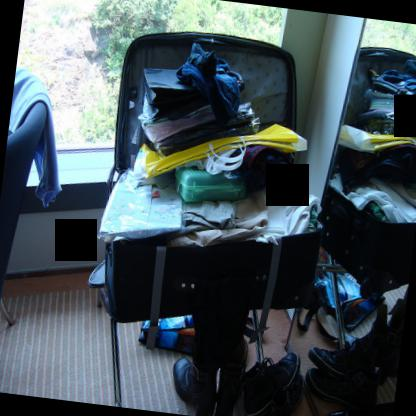handbag: (179, 201, 238, 233)
suitcase: (103, 31, 323, 319), (318, 184, 416, 298)
